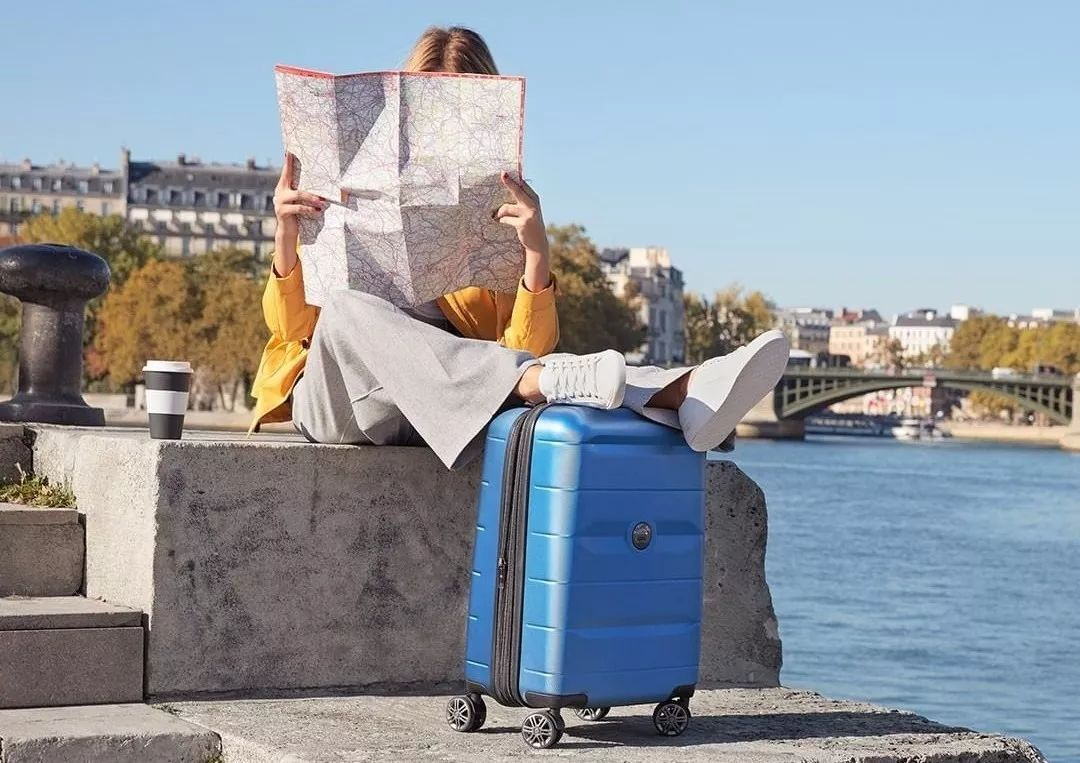box: (462, 405, 707, 708)
wheel: (521, 709, 564, 749), (446, 692, 487, 732), (653, 700, 691, 738), (573, 704, 611, 721)
